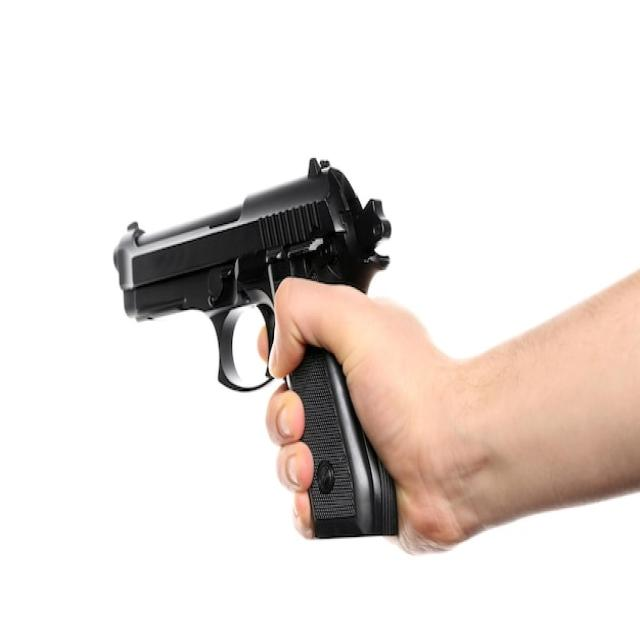HandGun: (112, 158, 399, 540)
